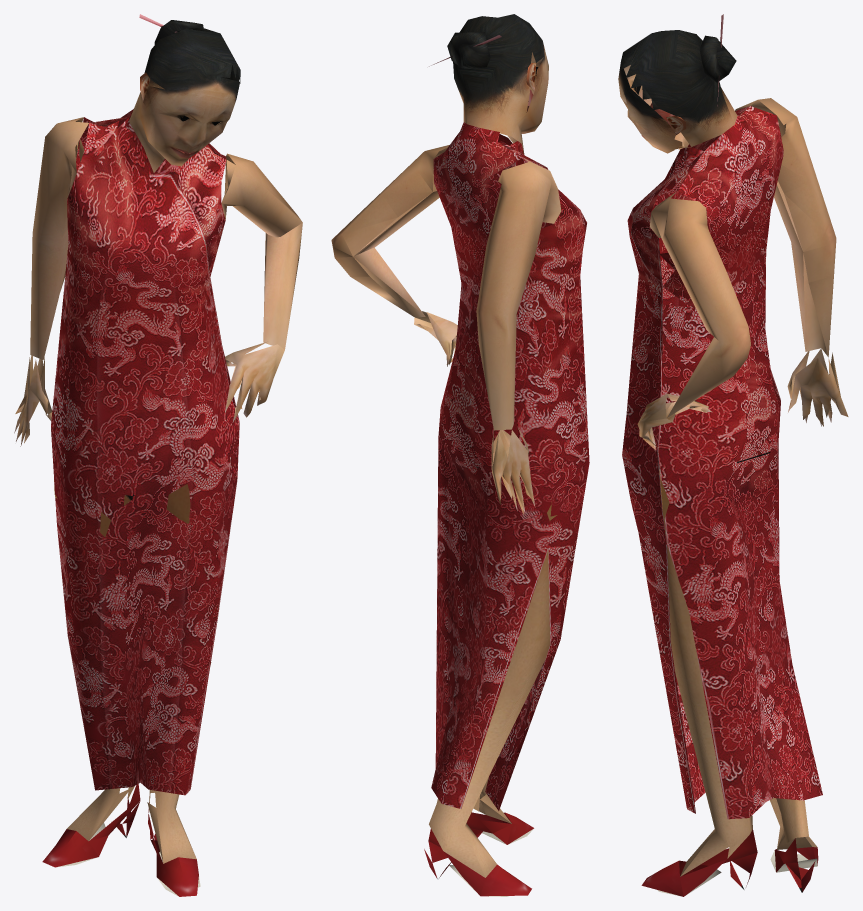
The model's file is womanasian_lowpoly.fbx.
3 views of the same model, side by side, from view 1: azimuth 30°, elevation 25°; view 2: azimuth 150°, elevation 25°; view 3: azimuth 270°, elevation 25° (orthographic). The views are drawn at different scales.
Parts seen in each view (by area): view 1: rest_2_001; view 2: rest_2_001; view 3: rest_2_001.
Part boxes in pixels (bbox=[...]): rest_2_001: bbox=[14, 14, 302, 896]; rest_2_001: bbox=[331, 14, 589, 896]; rest_2_001: bbox=[618, 14, 848, 896].
Size of the model in its own units: 131 by 431 by 104.
